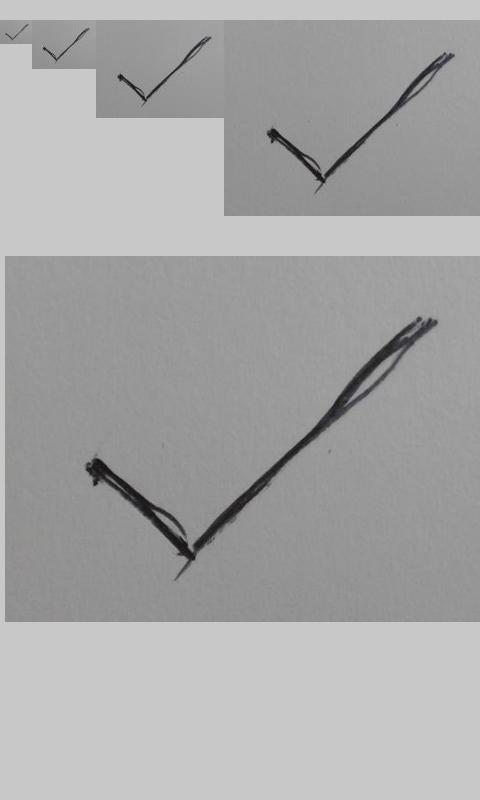check_box: (85, 317, 431, 564), (268, 52, 451, 186), (118, 37, 211, 103), (42, 28, 89, 61), (5, 24, 28, 41)
